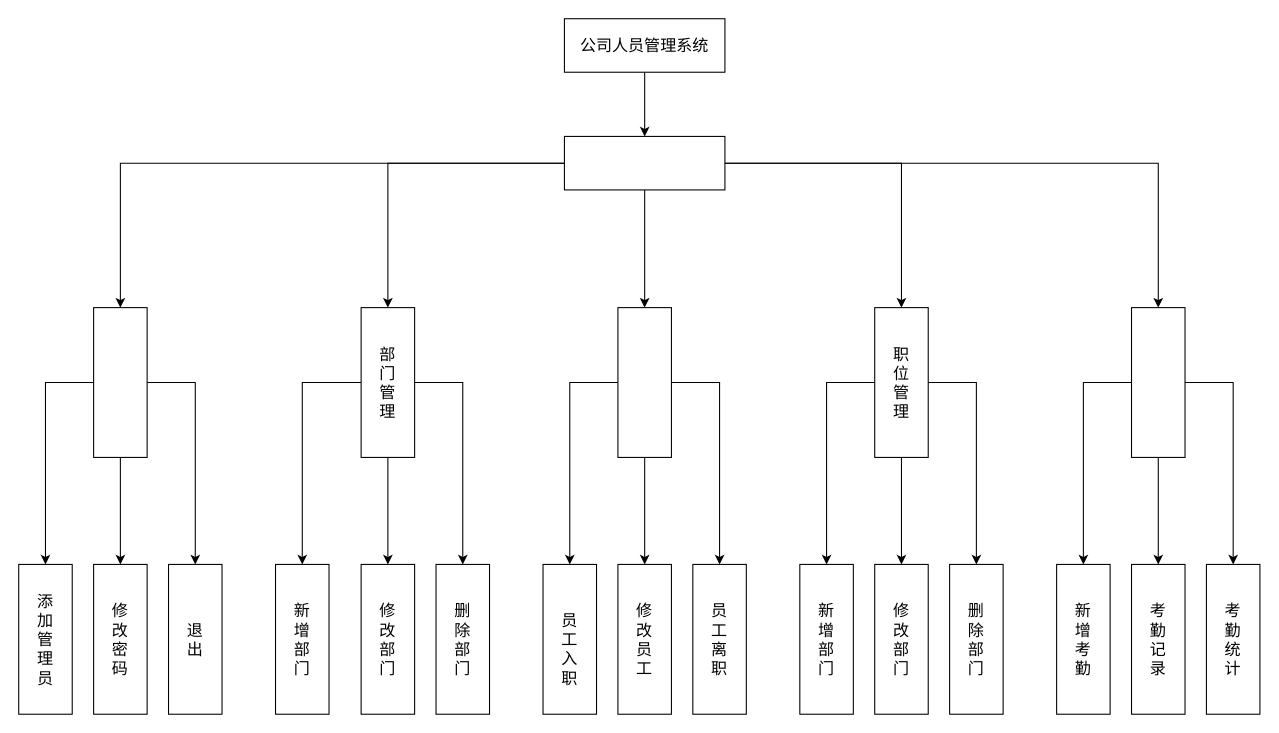
Image size: 1279x733. Some labels were removed from this diagram. Here are the shapes that lost their labels. From the top down, the centre of each, then its label:
At point 644,162: "系统登录".
At point 120,382: "系 统 管 理".
At point 644,382: "员 工 管 理".
At point 1157,382: "考 勤 管 理".
